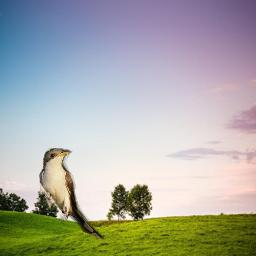Cuckoo: (39, 148, 105, 243)
